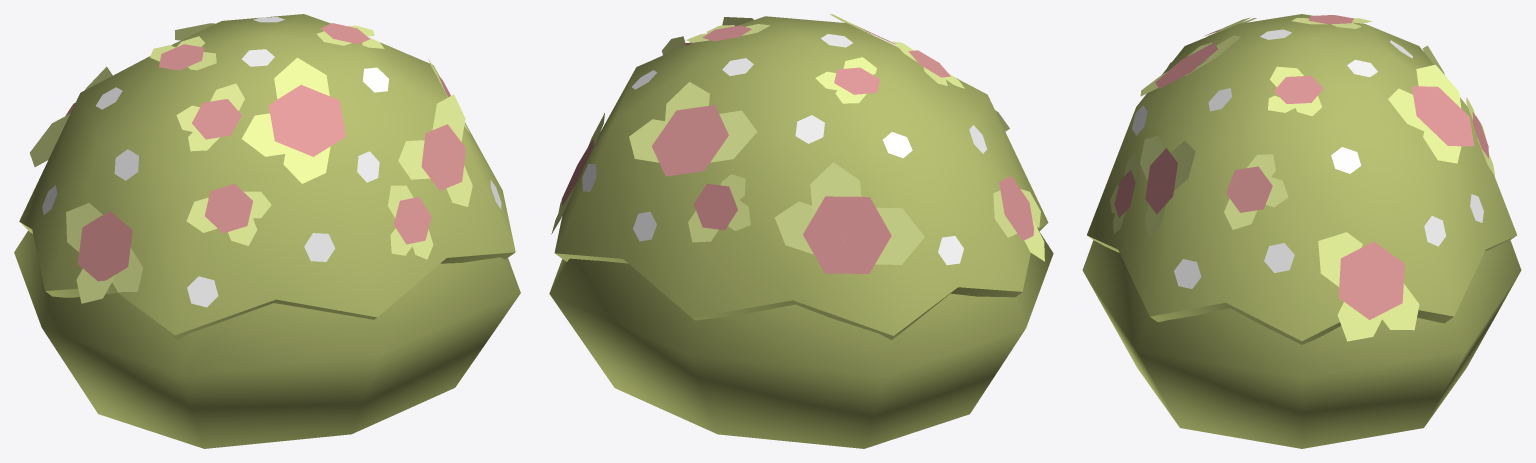
File: FloralBushModel.fbx
The picture shows the model from 3 angles, left to right: view 1: azimuth 30°, elevation 25°; view 2: azimuth 150°, elevation 25°; view 3: azimuth 270°, elevation 25°; orthographic projection. The views are drawn at different scales.
Parts seen in each view (by area): view 1: bushTop, bushBottom, flowers, flowers2; view 2: bushTop, bushBottom, flowers, flowers2; view 3: bushTop, bushBottom, flowers, flowers2.
Part boxes in pixels (x1=…): bushTop: x1=19, y1=14, x2=515, y2=340; bushBottom: x1=14, y1=230, x2=520, y2=448; flowers: x1=30, y1=23, x2=472, y2=303; flowers2: x1=42, y1=17, x2=501, y2=307; bushTop: x1=554, y1=16, x2=1048, y2=339; bushBottom: x1=549, y1=232, x2=1053, y2=448; flowers: x1=551, y1=14, x2=1044, y2=273; flowers2: x1=582, y1=34, x2=987, y2=265; bushTop: x1=1087, y1=14, x2=1516, y2=344; bushBottom: x1=1082, y1=240, x2=1521, y2=448; flowers: x1=1110, y1=15, x2=1495, y2=341; flowers2: x1=1132, y1=29, x2=1483, y2=288.
Size of the model in its own units: 0.9666 by 0.6918 by 0.8321.
